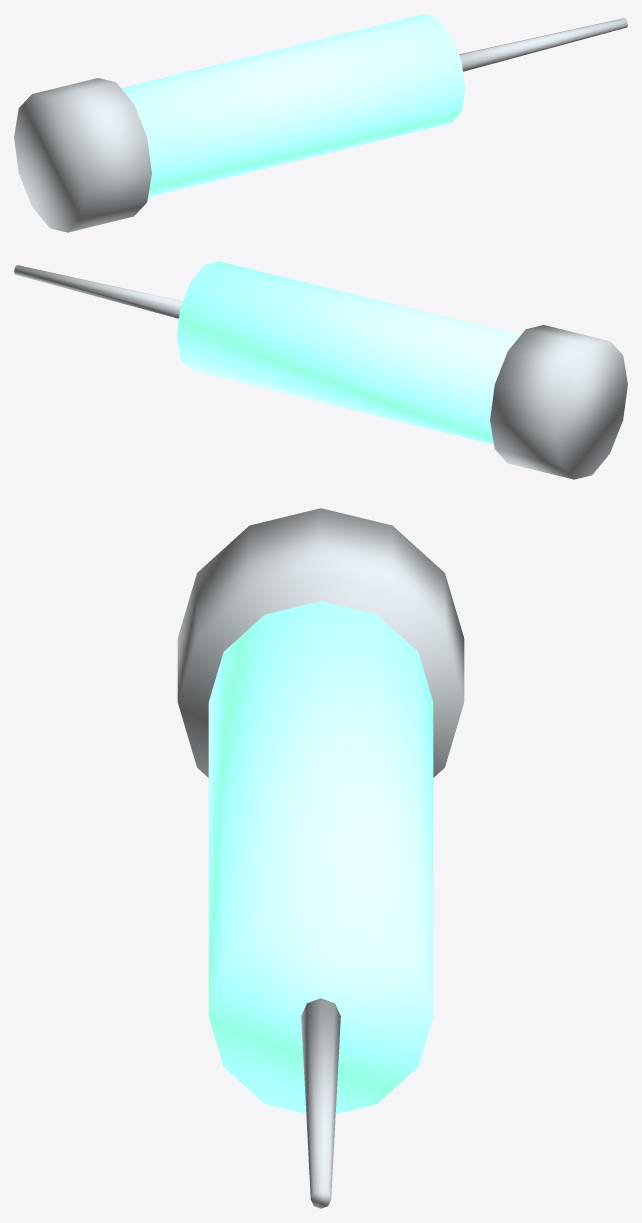
File: item_syringe.glb
3 views of the same model, one above another, from view 1: azimuth 30°, elevation 25°; view 2: azimuth 150°, elevation 25°; view 3: azimuth 270°, elevation 25° (orthographic). The views are drawn at different scales.
Visible parts, largest first — view 1: Barrel, Collar, Needle; view 2: Barrel, Collar, Needle; view 3: Barrel, Collar, Needle.
Part boxes in pixels (bbox=[...]): Barrel: bbox=[121, 14, 465, 197]; Collar: bbox=[14, 78, 151, 232]; Needle: bbox=[459, 18, 627, 71]; Barrel: bbox=[176, 261, 520, 444]; Collar: bbox=[490, 325, 627, 479]; Needle: bbox=[14, 265, 182, 318]; Barrel: bbox=[208, 601, 433, 1113]; Collar: bbox=[177, 508, 464, 777]; Needle: bbox=[301, 998, 340, 1208].
Bounding box in the file's own units: 0.26 × 0.056 × 0.056.
